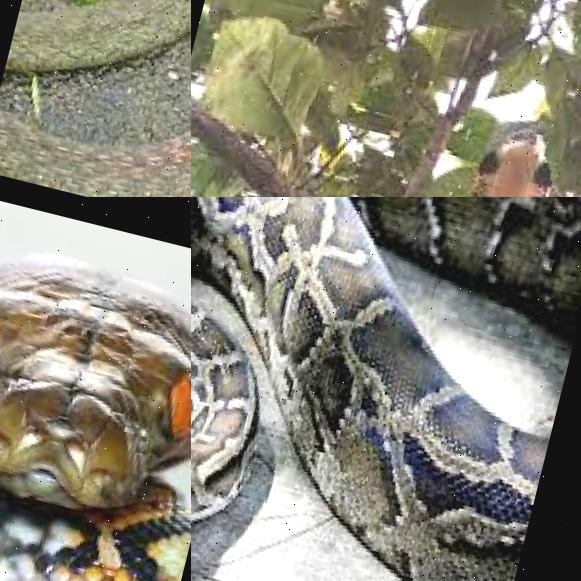snake: (191, 197, 581, 581), (0, 197, 191, 581), (230, 63, 561, 197), (0, 0, 191, 197)
